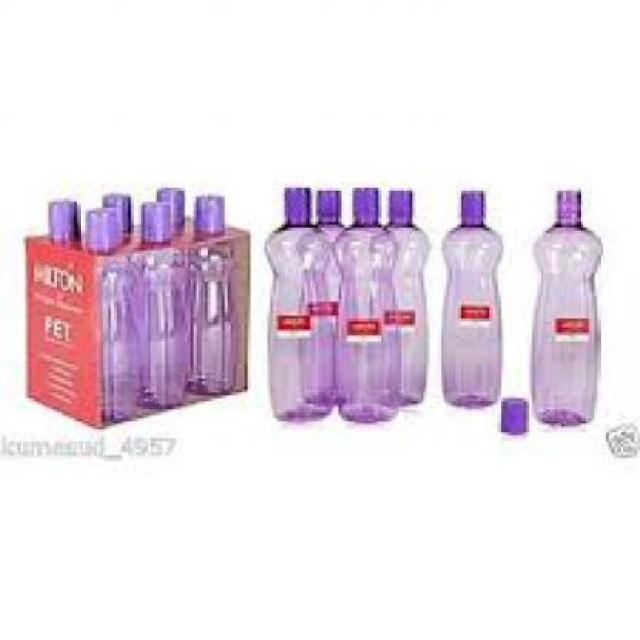Drinking: (529, 185, 609, 446), (438, 182, 509, 410)
